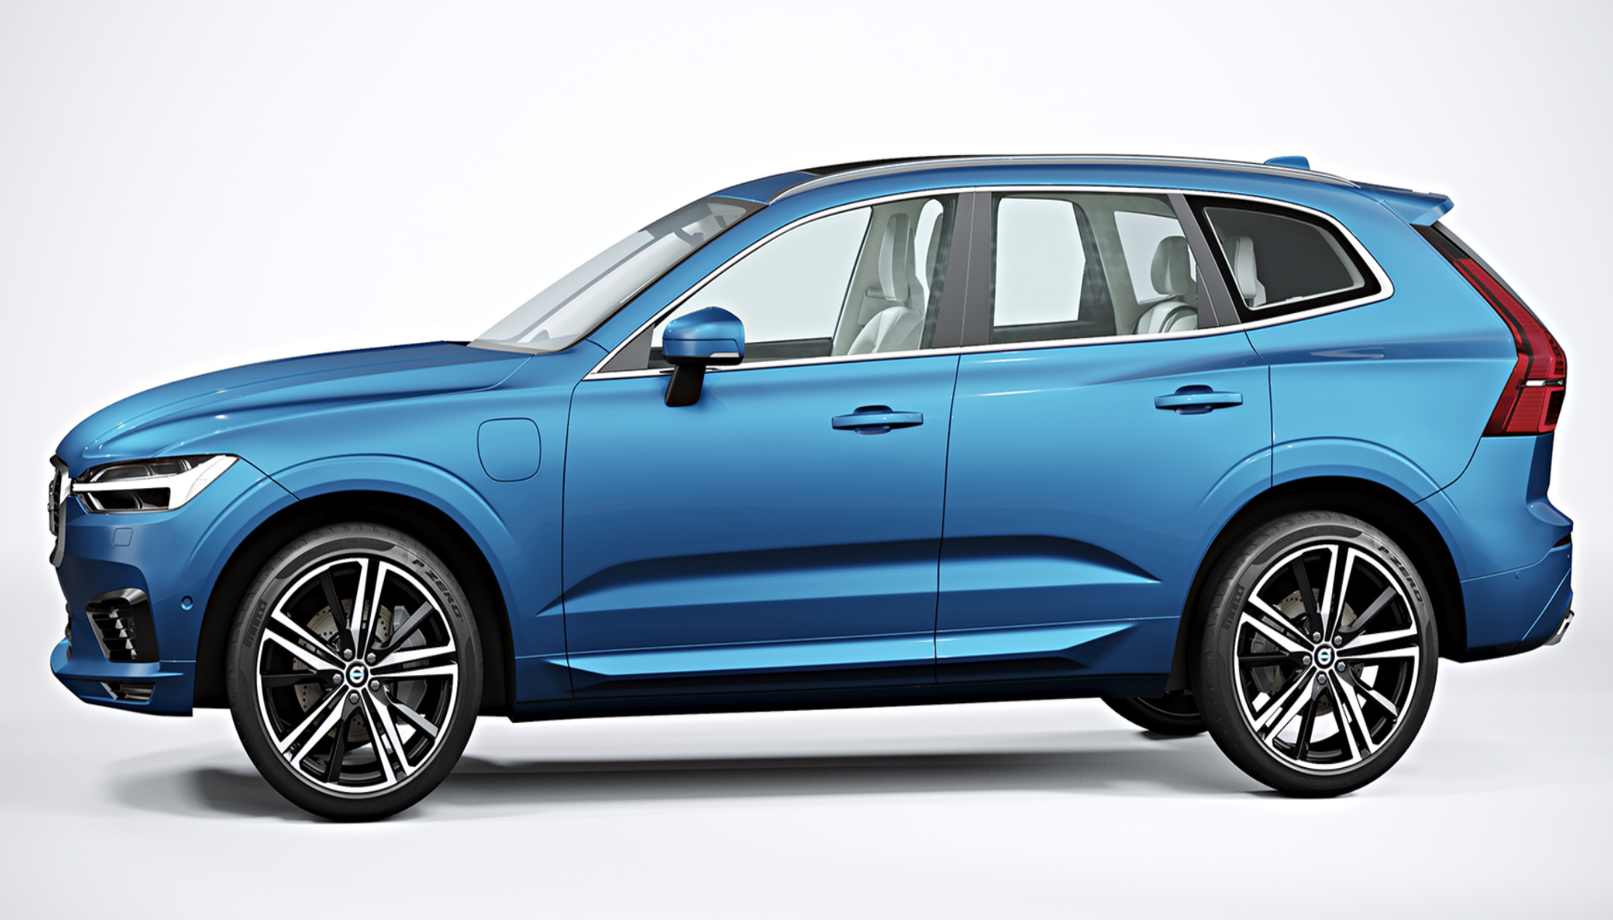hatch: (472, 410, 549, 488)
